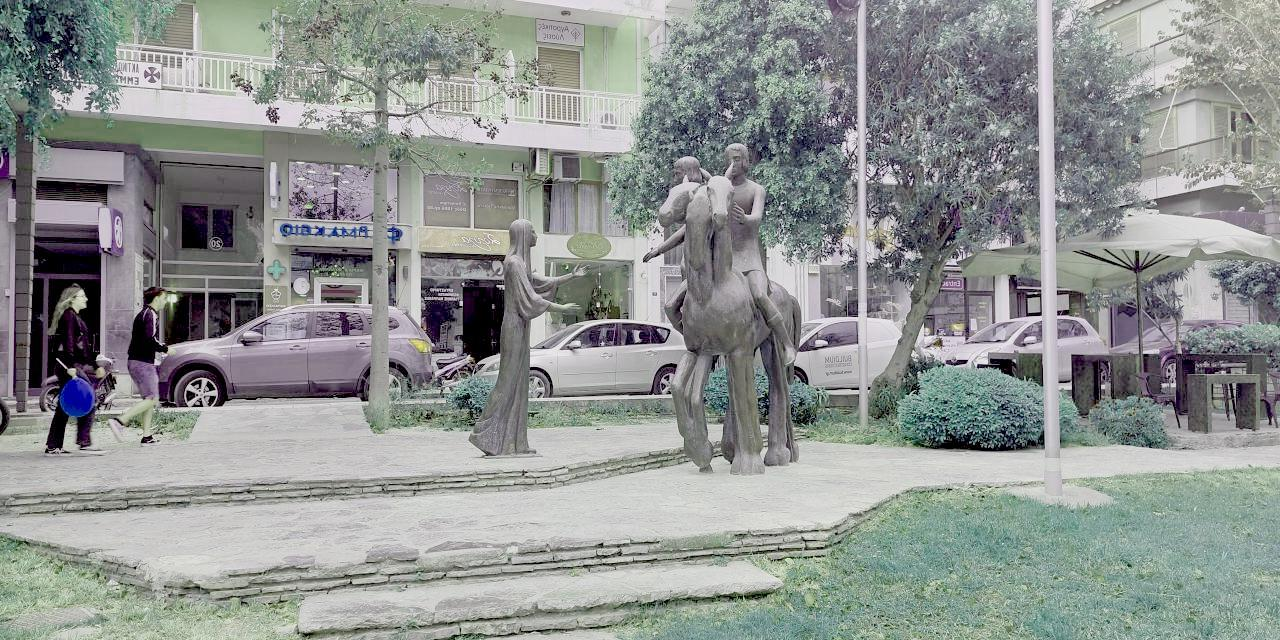Aretousa: (468, 145, 803, 475)
